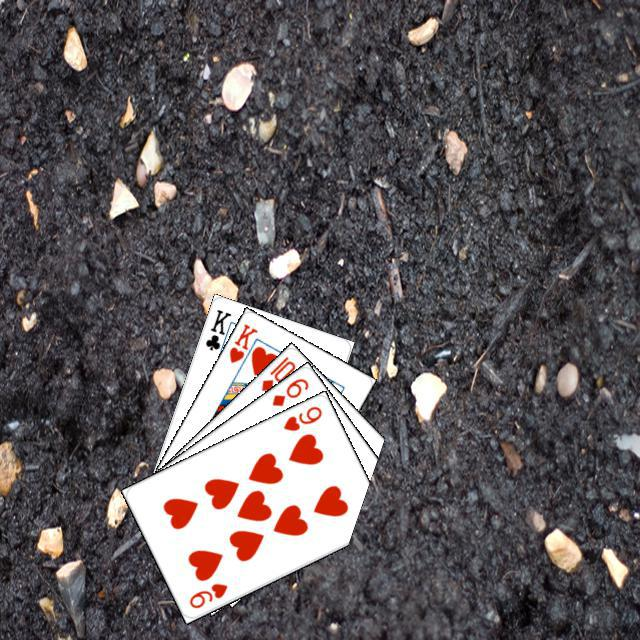10d: (256, 351, 297, 393)
6d: (267, 373, 310, 408)
9h: (278, 401, 324, 433), (184, 578, 229, 610)
Kc: (200, 304, 235, 360)
Kh: (224, 319, 261, 373)
